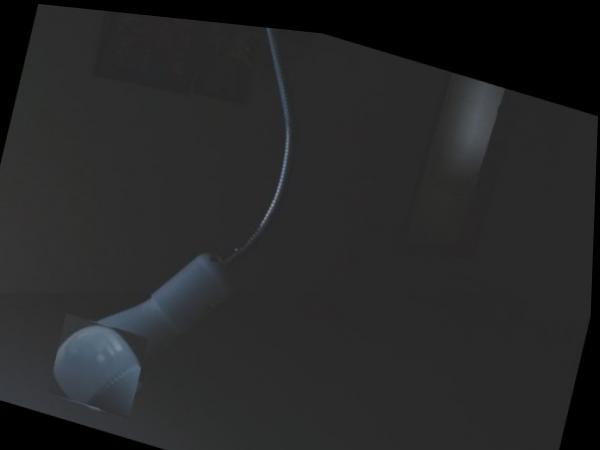Fan: (51, 311, 152, 417)
